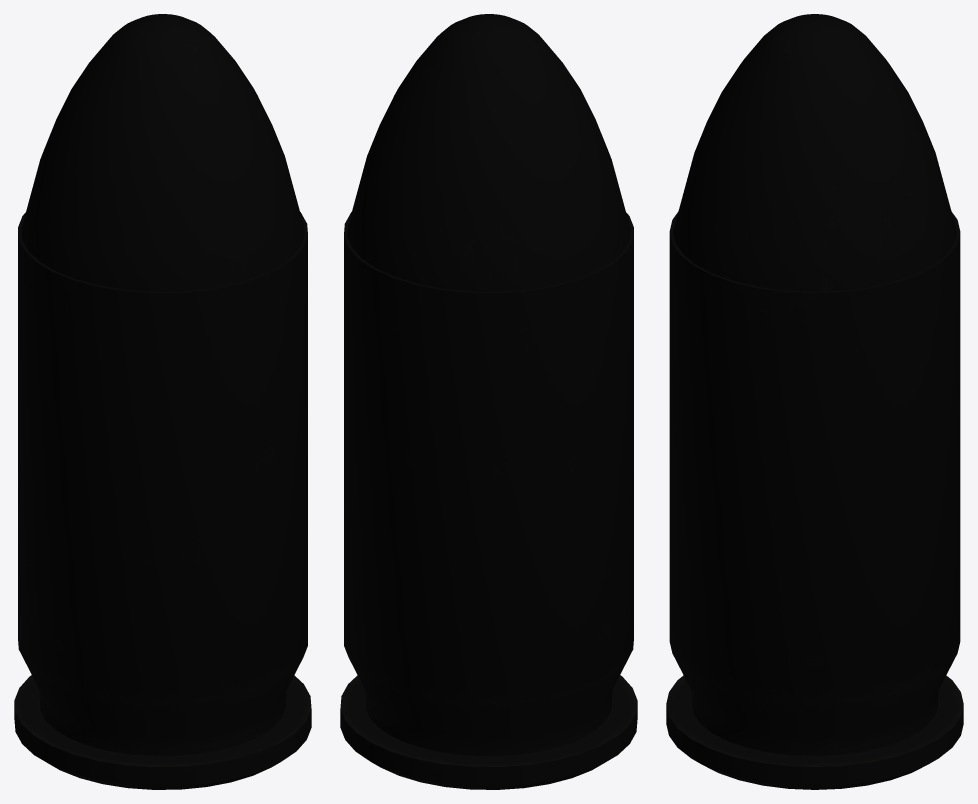
3 renders of one model, left to right at view 1: azimuth 30°, elevation 25°; view 2: azimuth 150°, elevation 25°; view 3: azimuth 270°, elevation 25°, orthographic.
Visible parts, largest first — view 1: Shell_Bullet_045_0, Bullet_Bullet_045_0; view 2: Shell_Bullet_045_0, Bullet_Bullet_045_0; view 3: Shell_Bullet_045_0, Bullet_Bullet_045_0.
Part boxes in pixels (bbox=[...]): Shell_Bullet_045_0: bbox=[14, 212, 311, 789]; Bullet_Bullet_045_0: bbox=[21, 14, 304, 291]; Shell_Bullet_045_0: bbox=[340, 212, 637, 789]; Bullet_Bullet_045_0: bbox=[347, 14, 630, 291]; Shell_Bullet_045_0: bbox=[666, 212, 963, 789]; Bullet_Bullet_045_0: bbox=[673, 14, 956, 291].
Size of the model in its own units: 1.18 by 3.12 by 1.18.
1 material, 1 textured.
